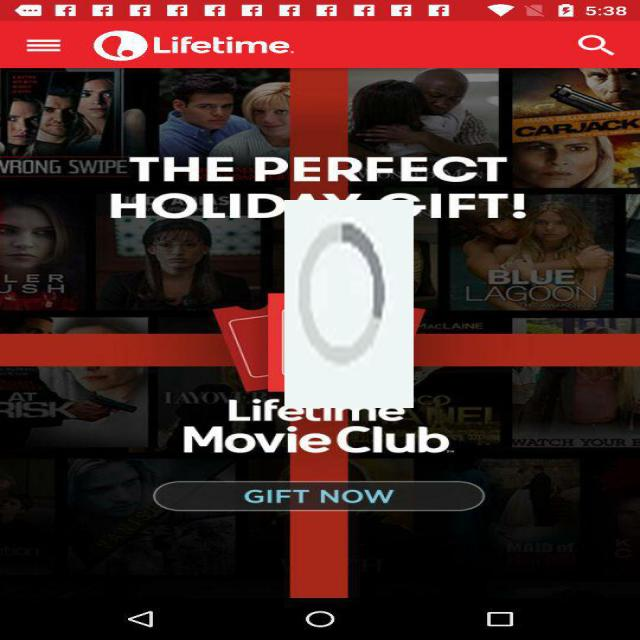misdirection: (284, 200, 414, 408)
